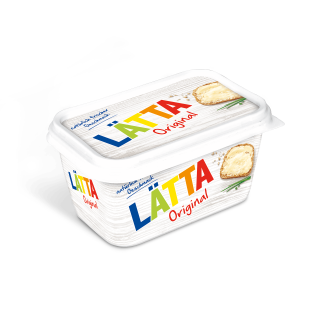laetta: (46, 68, 284, 247)
